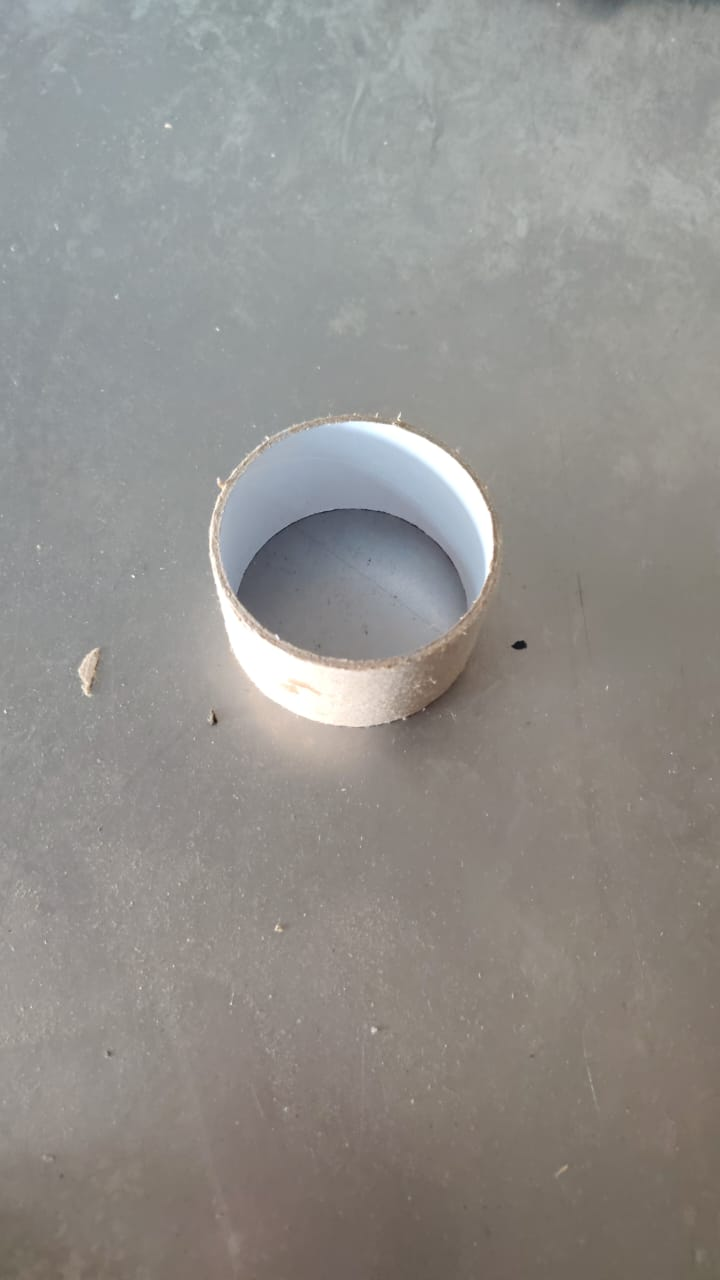Carton: (209, 412, 505, 725)
